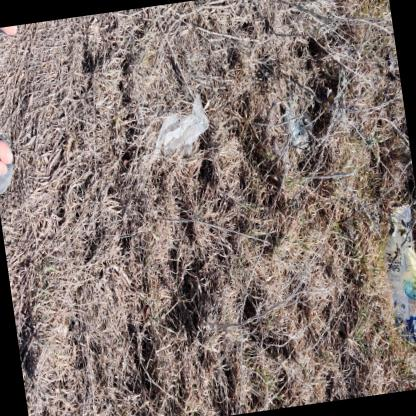Plastic: (381, 201, 416, 375), (151, 93, 207, 164), (283, 104, 313, 154)
